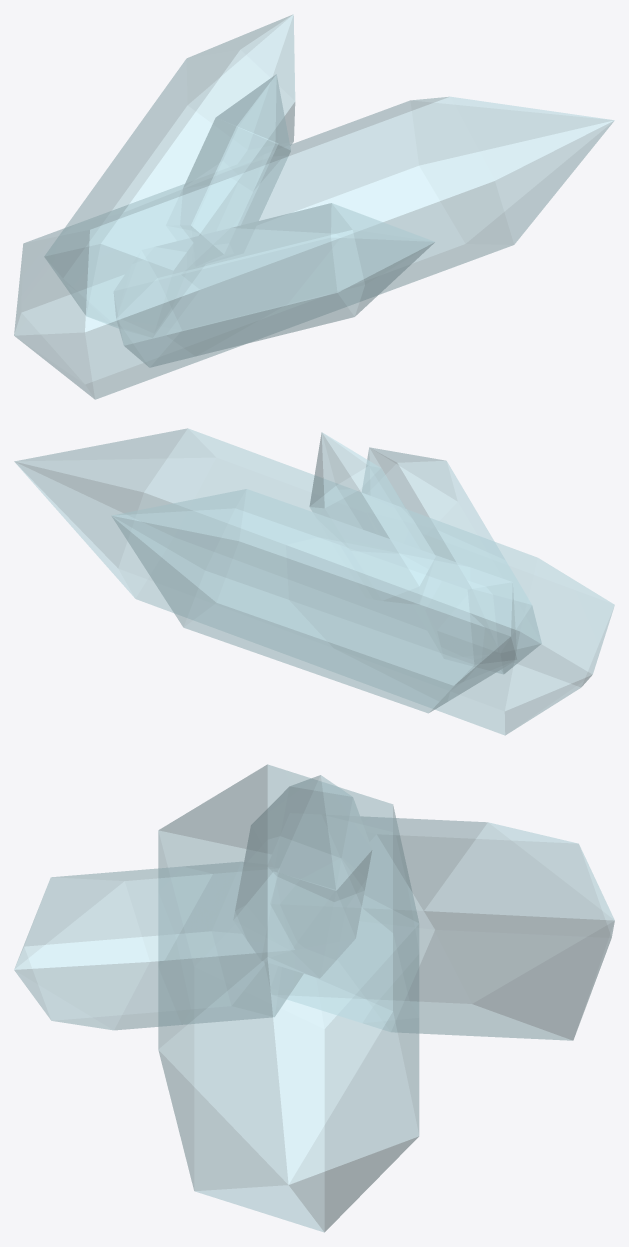
Rendered from lumen_shard.glb.
3 renders of one model, top to bottom at view 1: azimuth 30°, elevation 25°; view 2: azimuth 150°, elevation 25°; view 3: azimuth 270°, elevation 25°, orthographic. The views are drawn at different scales.
Parts seen in each view (by area): view 1: lumen_shard; view 2: lumen_shard; view 3: lumen_shard.
Part boxes in pixels (x1,y1,x2,y2): lumen_shard: (14, 14, 614, 399); lumen_shard: (14, 428, 614, 735); lumen_shard: (14, 764, 614, 1232).
Bounding box in the file's own units: 0.0563 × 0.0238 × 0.0332.
